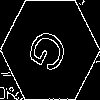G: (25, 25, 77, 82)
